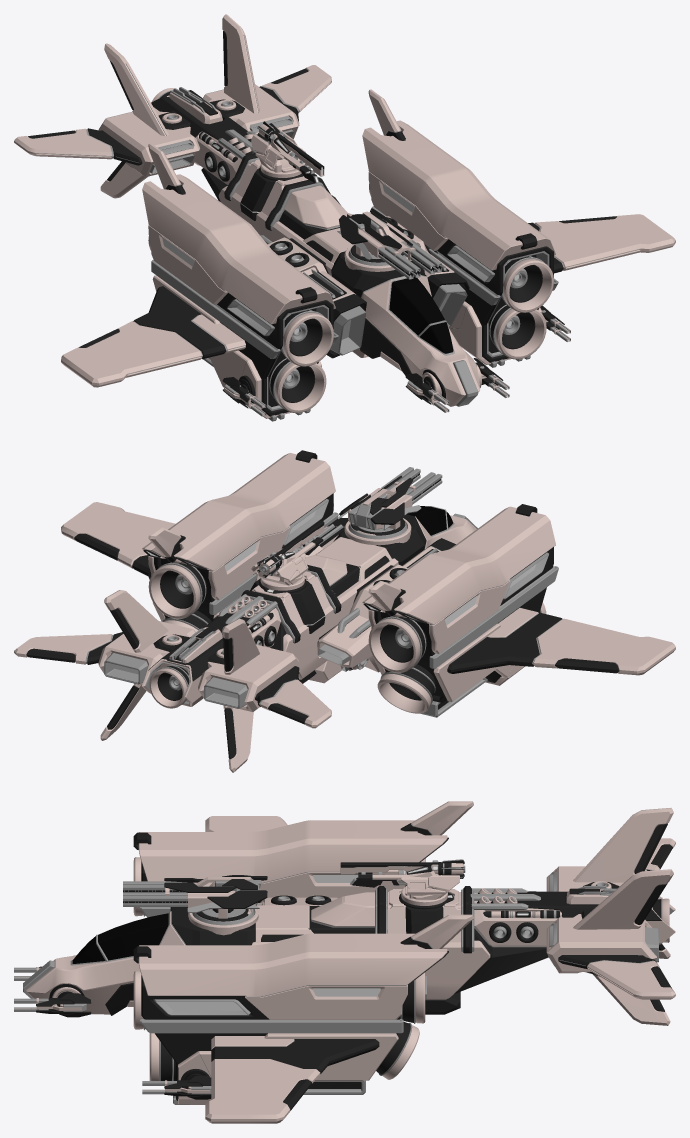
The model's file is Fat Eagle MKII New 2.fbx.
The picture shows the model from 3 angles, top to bottom: view 1: azimuth 30°, elevation 25°; view 2: azimuth 150°, elevation 25°; view 3: azimuth 270°, elevation 25°; orthographic projection. The views are drawn at different scales.
Visible parts, largest first — view 1: Cube, Cube.002, Cube.003, Cube.004, Cube.005, Cylinder.021, Cube.001, Cylinder.004, Cylinder.008, Cylinder.003, Cylinder.007, Cylinder.010 (+4 smaller); view 2: Cube, Cube.002, Cube.003, Cube.004, Cube.005, Cylinder.021, Cylinder.005, Cylinder.001, Cylinder.006, Cylinder, Cylinder.010, Cylinder.009 (+4 smaller); view 3: Cube, Cube.003, Cube.002, Cube.005, Cylinder.021, Cube.001, Cube.014, Cylinder.010, Cylinder.014, Cylinder.002, Cube.004, Cylinder.020 (+6 smaller).
Part boxes in pixels (<box>): Cube: <box>14,14,481,406</box>; Cube.002: <box>142,143,338,421</box>; Cube.003: <box>362,89,558,367</box>; Cube.004: <box>61,286,245,387</box>; Cube.005: <box>528,214,675,273</box>; Cylinder.021: <box>337,208,441,279</box>; Cube.001: <box>389,276,453,353</box>; Cylinder.004: <box>488,304,546,359</box>; Cylinder.008: <box>268,358,326,413</box>; Cylinder.003: <box>281,309,333,366</box>; Cylinder.007: <box>501,256,553,312</box>; Cylinder.010: <box>251,129,305,177</box>; Cube: <box>14,506,477,772</box>; Cube.002: <box>362,504,558,717</box>; Cube.003: <box>142,450,338,621</box>; Cube.004: <box>447,608,675,675</box>; Cube.005: <box>61,502,175,579</box>; Cylinder.021: <box>337,467,442,530</box>; Cylinder.005: <box>368,616,426,672</box>; Cylinder.001: <box>148,562,206,618</box>; Cylinder.006: <box>377,664,435,713</box>; Cylinder: <box>149,665,189,708</box>; Cylinder.010: <box>251,548,308,590</box>; Cylinder.009: <box>259,518,411,593</box>; Cube: <box>23,808,675,1025</box>; Cube.003: <box>133,914,473,1104</box>; Cube.002: <box>133,801,473,917</box>; Cube.005: <box>205,1036,379,1123</box>; Cylinder.021: <box>123,875,267,912</box>; Cube.001: <box>72,913,168,963</box>; Cube.014: <box>340,860,438,889</box>; Cylinder.010: <box>401,875,459,905</box>; Cylinder.014: <box>14,993,91,1017</box>; Cylinder.002: <box>376,1022,419,1079</box>; Cube.004: <box>205,816,287,831</box>; Cylinder.020: <box>142,1075,211,1099</box>.
Bounding box in the file's own units: 4135 × 1282 × 3843.
